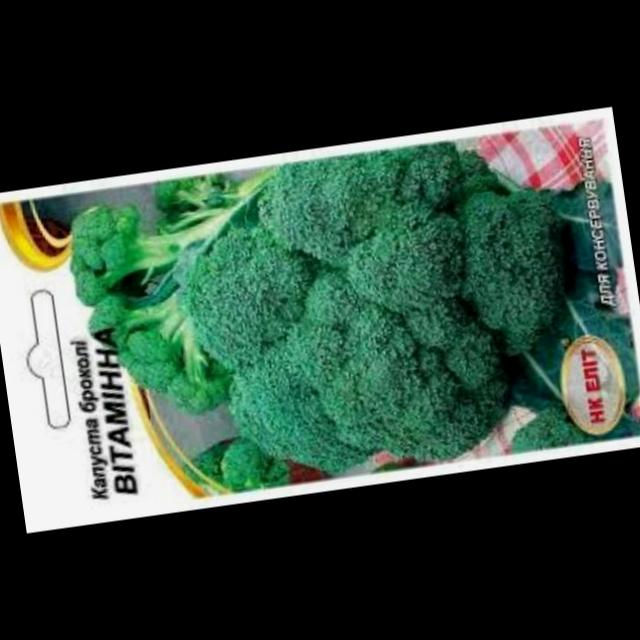Broccoli: (160, 152, 580, 485), (55, 174, 238, 406)
